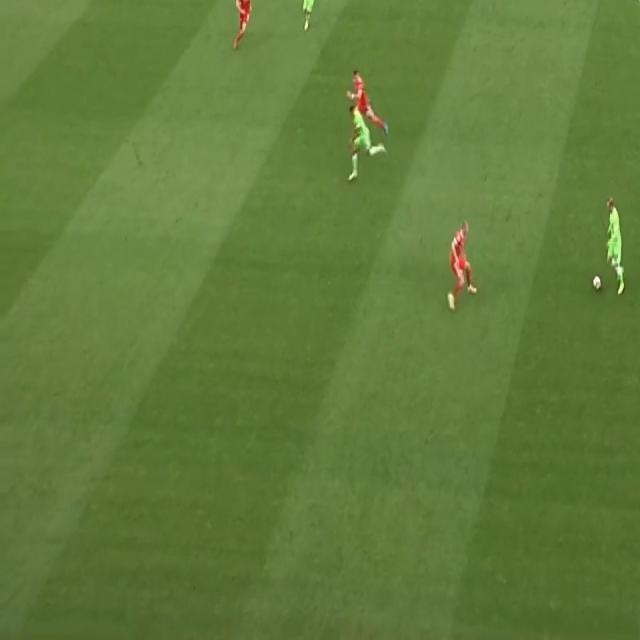ball: (592, 273, 602, 292)
